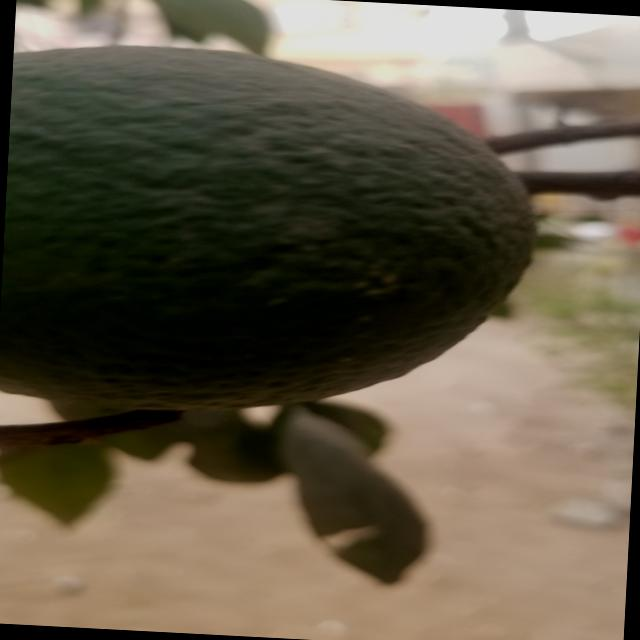Unripe: (0, 40, 549, 422)
